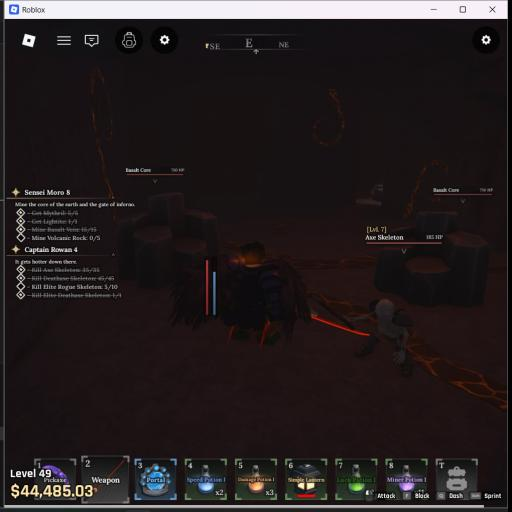player: (171, 241, 311, 343)
rock: (365, 212, 490, 306), (116, 193, 218, 288)
